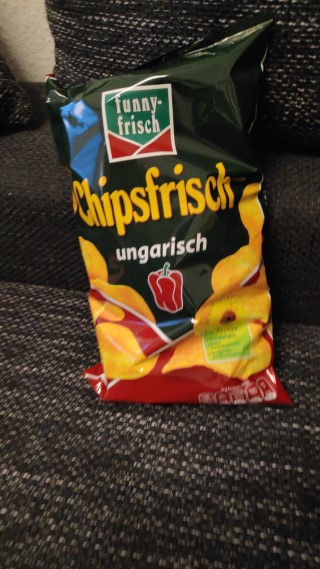chipsfrisch: (42, 15, 295, 408)
